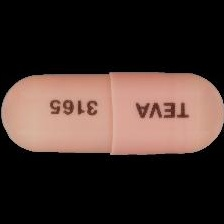0093-3165: (0, 0, 224, 224)
